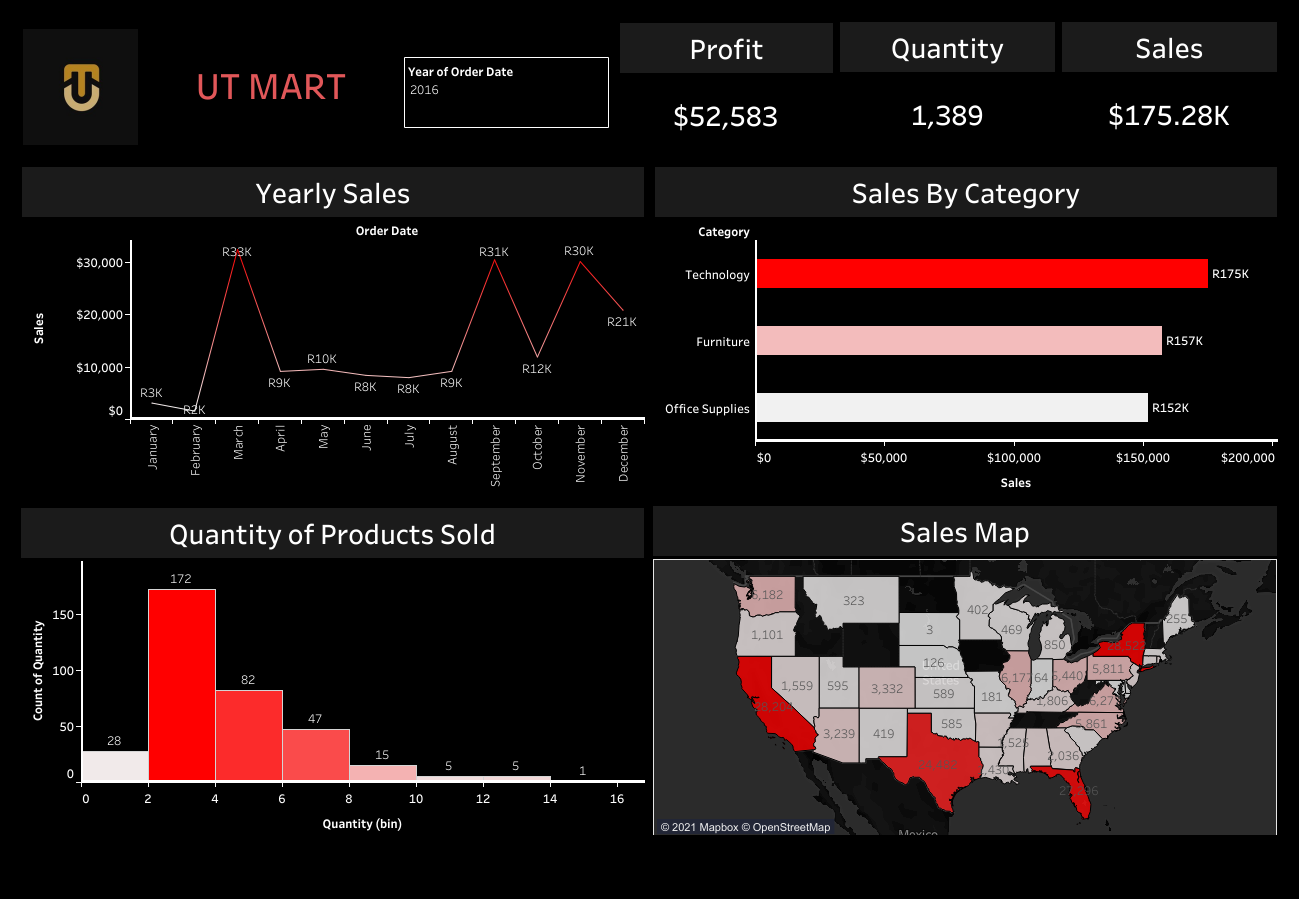

This screenshot's page, from the dashboard's own definition file:
{"tool":"tableau","page":{"name":"Dashboard 1","canvas":[1300,900],"ordinal":0},"visuals":[{"type":"text","box":[147,22,248,124]},{"type":"worksheet","title":"Quanity Card","mark":"Automatic","box":[840,22,215,132]},{"type":"worksheet","title":"Sales Card","mark":"Automatic","box":[1062,22,215,131]},{"type":"worksheet","title":"Profit Card","mark":"Automatic","box":[620,23,213,131]},{"type":"image","param":"Image/luxury-t-u-ut-tu-260nw-[phone redacted].jpg","box":[3,29,155,116]},{"type":"filter","title":"Yearly Sales","param":"[federated.02fncn60ks6ujx10a7x1m04870gx].[yr:Order Date:ok]","box":[404,57,205,71]},{"type":"worksheet","title":"Yearly Sales","mark":"Automatic","rows":["Sales"],"cols":["Order Date"],"box":[22,167,622,332]},{"type":"worksheet","title":"Sales by Category","mark":"Automatic","rows":["Category"],"cols":["Sales"],"box":[655,167,622,331]},{"type":"worksheet","title":"Sales Map","mark":"Automatic","box":[653,506,624,332]},{"type":"worksheet","title":"Product sold per order","mark":"Automatic","rows":["Quantity"],"cols":["Quantity (bin)"],"box":[21,508,623,331]}]}

Visuals, with their boxes in screenshot pixels (x1, y1, x2, y2), scaled from the page's 1300x900 canvas onto the 1299x899 screenshot:
text: BBox(147, 22, 395, 146)
"Quanity Card" worksheet: BBox(839, 22, 1054, 154)
"Sales Card" worksheet: BBox(1061, 22, 1276, 153)
"Profit Card" worksheet: BBox(620, 23, 832, 154)
image: BBox(3, 29, 158, 145)
"Yearly Sales" filter: BBox(404, 57, 609, 128)
"Yearly Sales" worksheet: BBox(22, 167, 644, 498)
"Sales by Category" worksheet: BBox(654, 167, 1276, 497)
"Sales Map" worksheet: BBox(652, 505, 1276, 837)
"Product sold per order" worksheet: BBox(21, 507, 644, 838)
